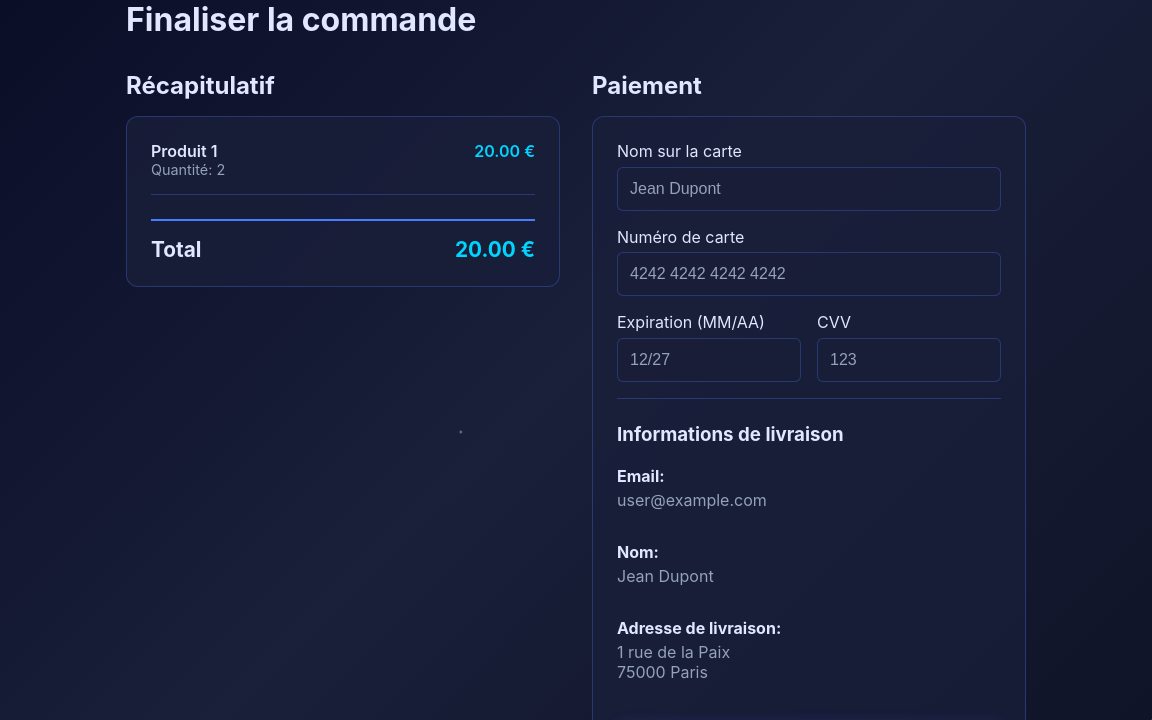
Checkout (payment simulation) › shows error for invalid card number
Type "1234 5678 9012 3456" into the field labelled "Numéro de carte" at (809, 274), box [617,252,1001,296]
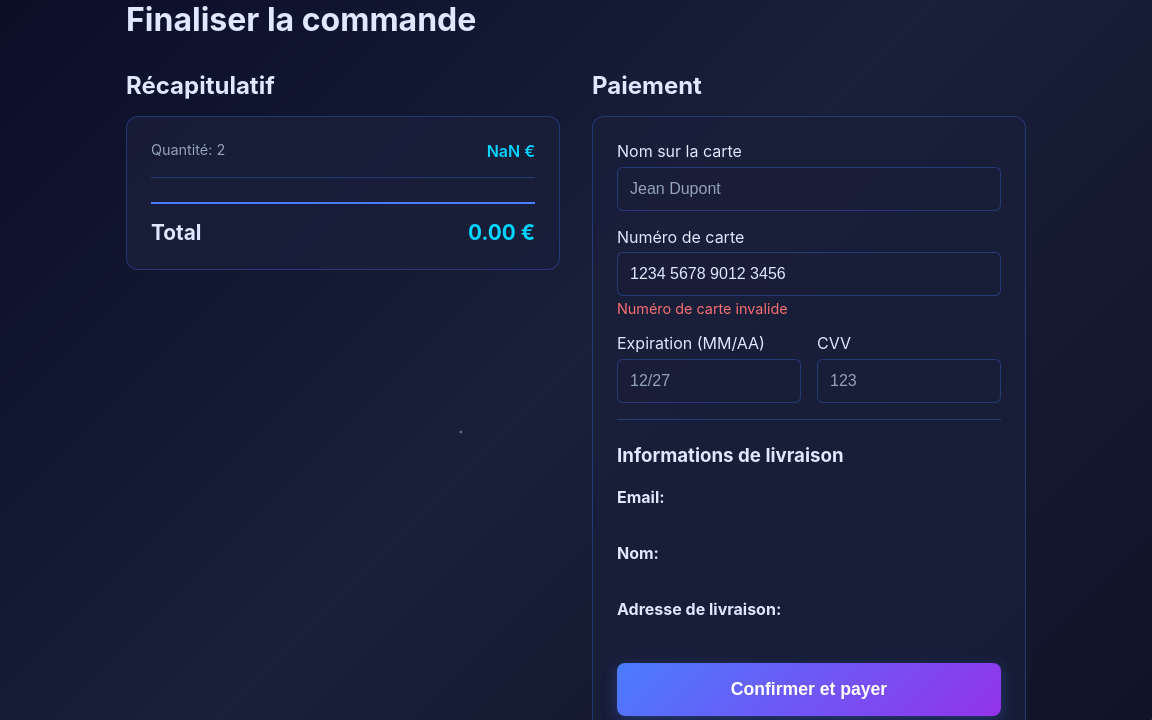
Result: the text "Numéro de carte invalide" is shown at [617,300,788,317]
